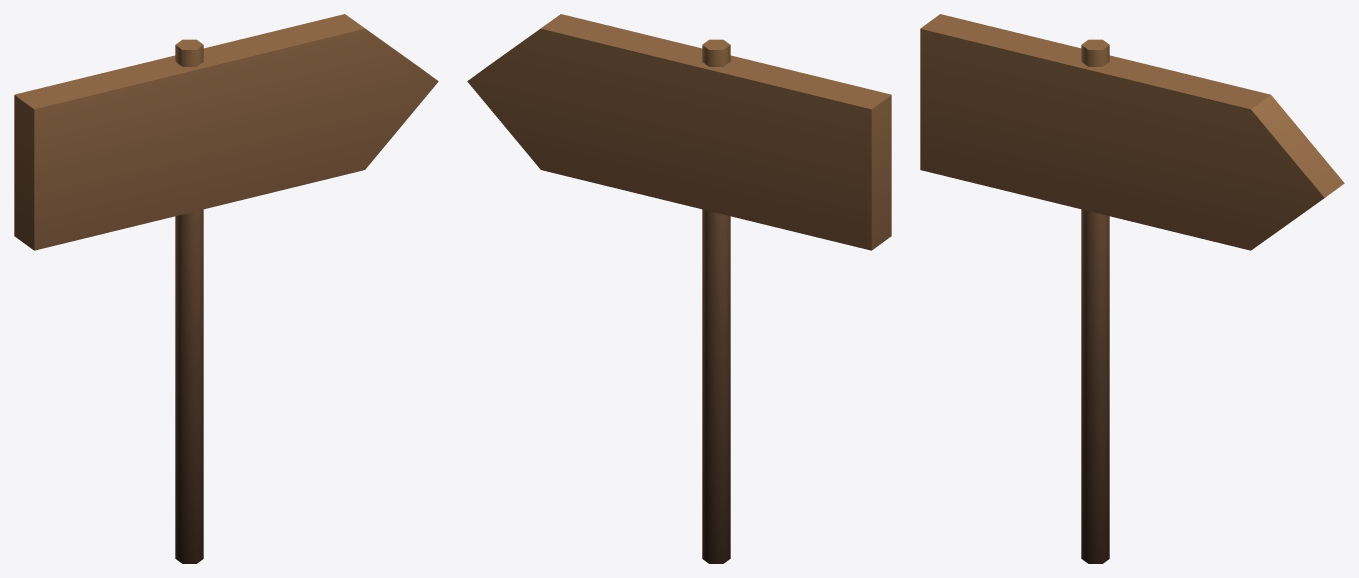
File: sign.fbx
The picture shows the model from 3 angles, left to right: view 1: azimuth 30°, elevation 25°; view 2: azimuth 150°, elevation 25°; view 3: azimuth 330°, elevation 25°; orthographic projection.
Visible parts, largest first — view 1: sign; view 2: sign; view 3: sign.
Boxes of the visible parts, x1,y1,x2,y2 form: sign: (14,14,438,563); sign: (467,14,891,563); sign: (920,14,1344,563).
Bounding box in the file's own units: 115 × 139 × 9.86.
1 material, 1 textured.
